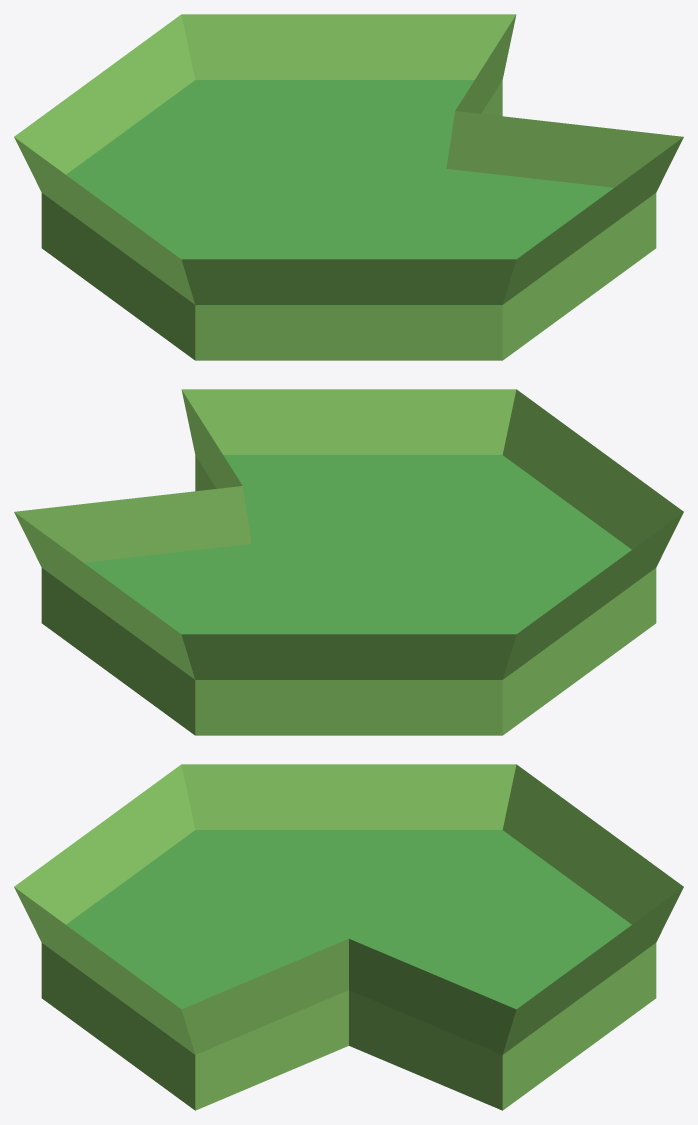
The model's file is lily_small.glb.
3 renders of one model, top to bottom at view 1: azimuth 30°, elevation 25°; view 2: azimuth 150°, elevation 25°; view 3: azimuth 270°, elevation 25°, orthographic.
Visible parts, largest first — view 1: lily_small; view 2: lily_small; view 3: lily_small.
Part boxes in pixels (x1,y1,x2,y2): lily_small: [14, 14, 683, 360]; lily_small: [14, 389, 683, 735]; lily_small: [14, 764, 683, 1110].
Size of the model in its own units: 0.1888 by 0.04 by 0.218.
